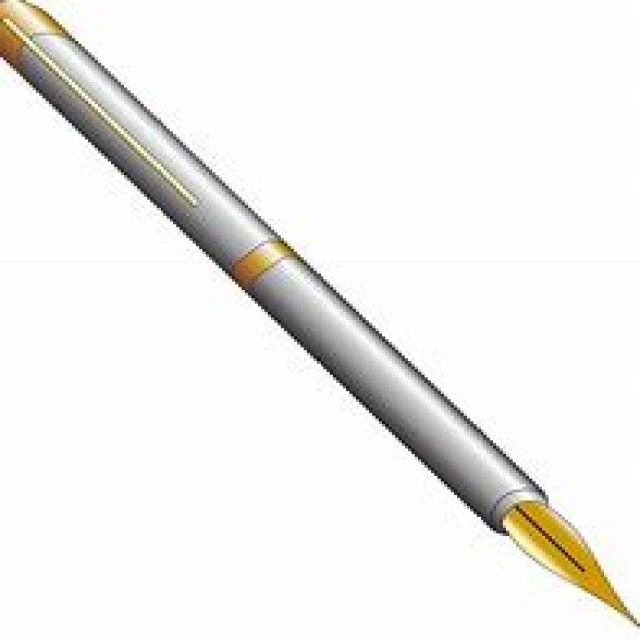pen: (0, 0, 640, 633)
